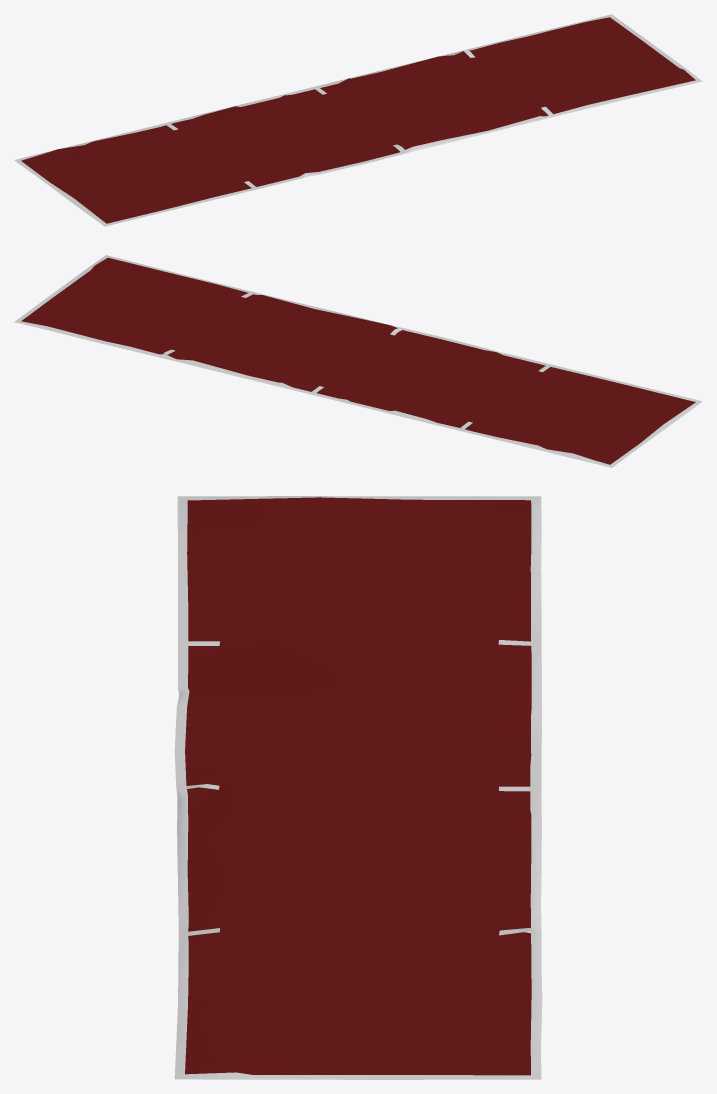
File: SM_M_Government_Office_ClothLarge_02Red_ATLAS.fbx
3 renders of one model, top to bottom at view 1: azimuth 30°, elevation 25°; view 2: azimuth 150°, elevation 25°; view 3: azimuth 270°, elevation 25°, orthographic. The views are drawn at different scales.
Parts seen in each view (by area): view 1: SM_M_Government_Office_ClothLarge_02Red_ATLAS; view 2: SM_M_Government_Office_ClothLarge_02Red_ATLAS; view 3: SM_M_Government_Office_ClothLarge_02Red_ATLAS.
Part boxes in pixels (x1=…): SM_M_Government_Office_ClothLarge_02Red_ATLAS: x1=14, y1=14, x2=702, y2=226; SM_M_Government_Office_ClothLarge_02Red_ATLAS: x1=14, y1=255, x2=702, y2=467; SM_M_Government_Office_ClothLarge_02Red_ATLAS: x1=174, y1=496, x2=542, y2=1079.
Bounding box in the file's own units: 604 × 161 × 2.6.
